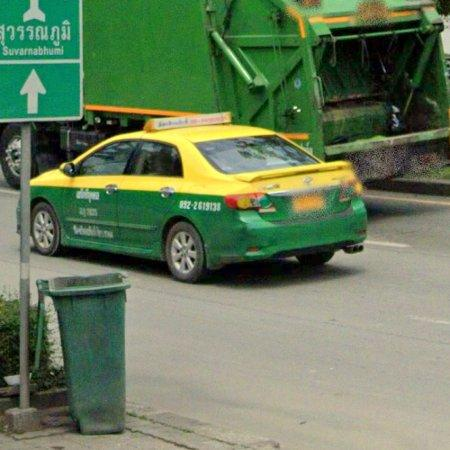taxis: (31, 114, 368, 282)
